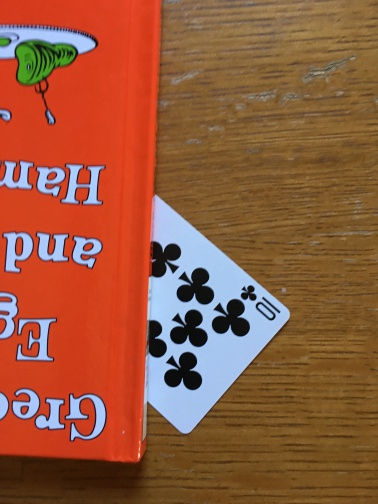ten: (144, 194, 292, 435)
